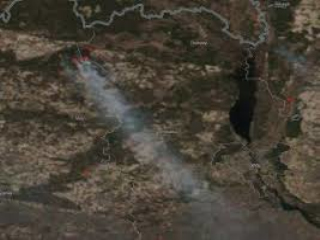fire: (72, 52, 91, 67)
smoke: (79, 63, 115, 99)
